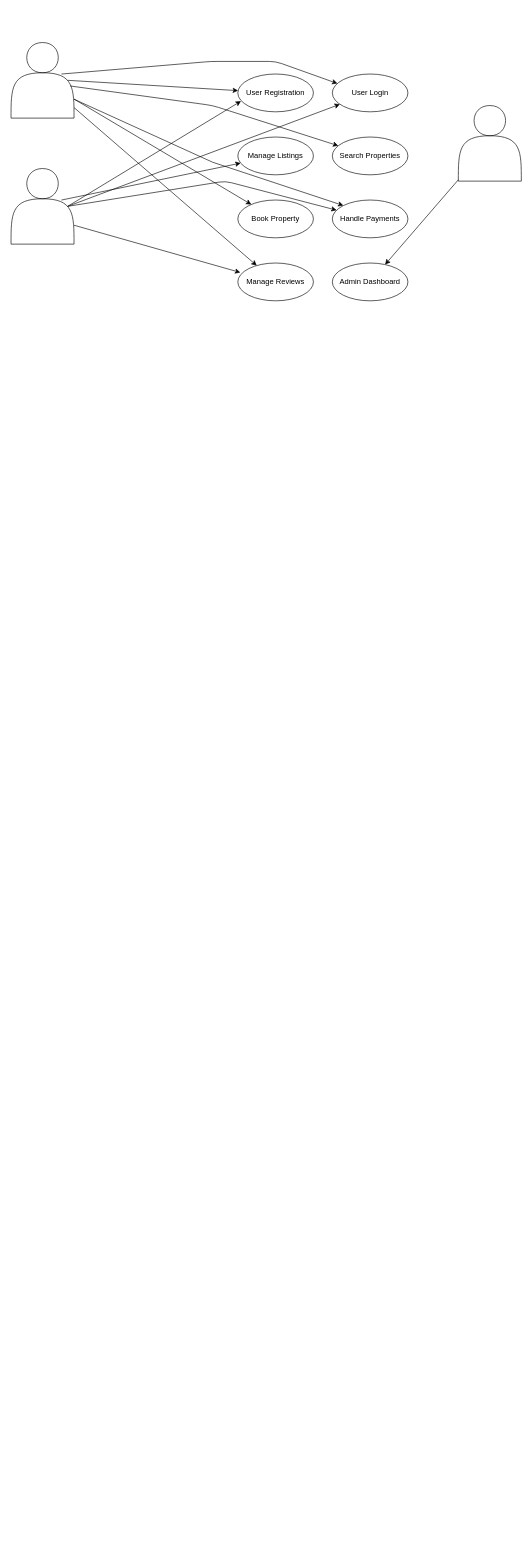
The diagram is 532 pixels wide and 1559 high, and some of its shapes have lost their labels. Each missing label, with the centre of its shape:
"ADMIN" goes at point 489,143.
"GUEST" goes at point 42,80.
"HOST" goes at point 42,206.
